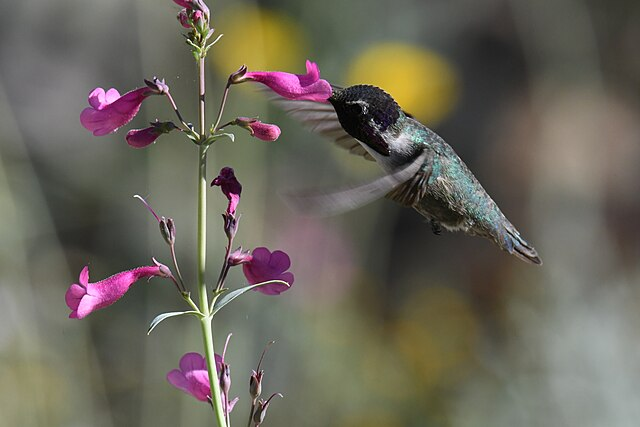calypte costae: (253, 71, 542, 266)
